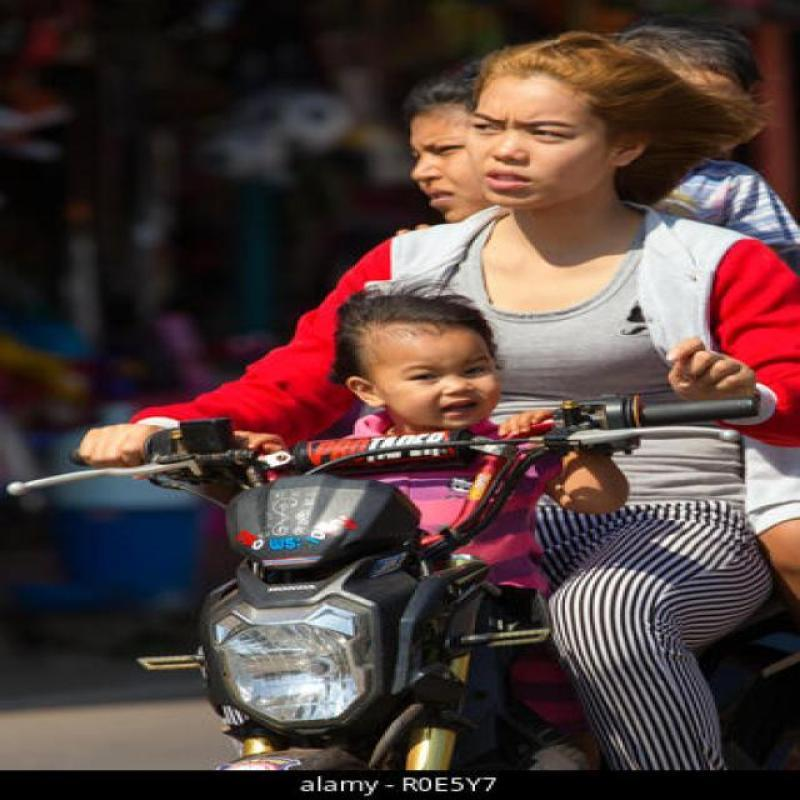nohelmet: (432, 32, 678, 226), (338, 288, 538, 422)
